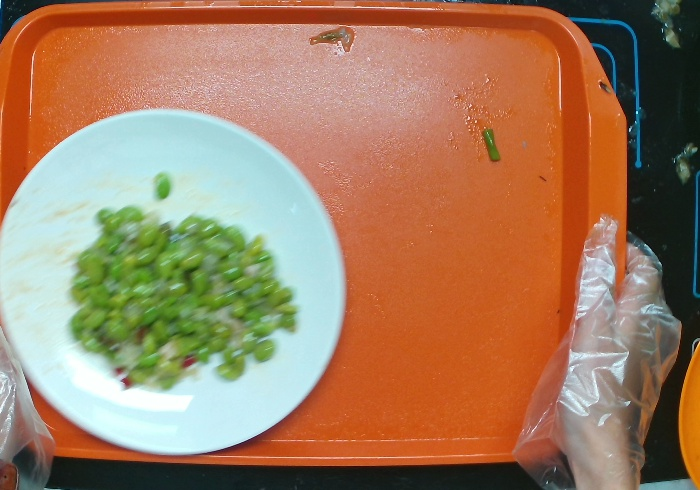HZYJPL-Bai_Se_Yuan_Pan: (4, 111, 346, 458)
